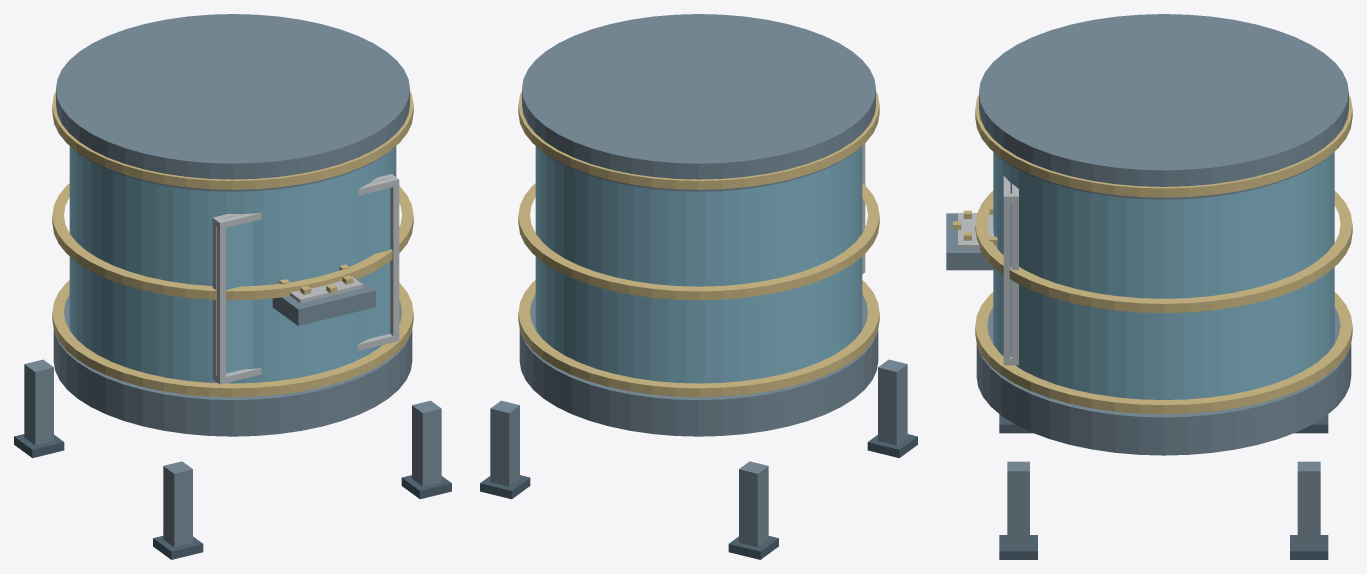
File: 41_L78_UVThermalCureReactor.glb
3 renders of one model, left to right at view 1: azimuth 30°, elevation 25°; view 2: azimuth 150°, elevation 25°; view 3: azimuth 270°, elevation 25°, orthographic. The views are drawn at different scales.
Visible parts, largest first — view 1: UVThermalCureReactor_Node_0013, UVThermalCureReactor_Node_0009, UVThermalCureReactor_Node_0008, UVThermalCureReactor_Node_0043, UVThermalCureReactor_Node_0010, UVThermalCureReactor_Node_0011, UVThermalCureReactor_Node_0012, UVThermalCureReactor_Node_0000, UVThermalCureReactor_Node_0006, UVThermalCureReactor_Node_0002, UVThermalCureReactor_Node_0046, UVThermalCureReactor_Node_0031 (+8 smaller); view 2: UVThermalCureReactor_Node_0009, UVThermalCureReactor_Node_0013, UVThermalCureReactor_Node_0008, UVThermalCureReactor_Node_0011, UVThermalCureReactor_Node_0010, UVThermalCureReactor_Node_0012, UVThermalCureReactor_Node_0002, UVThermalCureReactor_Node_0004, UVThermalCureReactor_Node_0000, UVThermalCureReactor_Node_0005, UVThermalCureReactor_Node_0001, UVThermalCureReactor_Node_0003; view 3: UVThermalCureReactor_Node_0009, UVThermalCureReactor_Node_0013, UVThermalCureReactor_Node_0008, UVThermalCureReactor_Node_0010, UVThermalCureReactor_Node_0011, UVThermalCureReactor_Node_0012, UVThermalCureReactor_Node_0004, UVThermalCureReactor_Node_0006, UVThermalCureReactor_Node_0033, UVThermalCureReactor_Node_0046, UVThermalCureReactor_Node_0032, UVThermalCureReactor_Node_0047 (+2 smaller).
Part boxes in pixels (x1=…): UVThermalCureReactor_Node_0013: x1=56, y1=14, x2=409, y2=191; UVThermalCureReactor_Node_0009: x1=69, y1=146, x2=396, y2=383; UVThermalCureReactor_Node_0008: x1=53, y1=294, x2=412, y2=436; UVThermalCureReactor_Node_0043: x1=226, y1=188, x2=390, y2=373; UVThermalCureReactor_Node_0010: x1=52, y1=280, x2=413, y2=397; UVThermalCureReactor_Node_0011: x1=52, y1=183, x2=413, y2=300; UVThermalCureReactor_Node_0012: x1=52, y1=91, x2=413, y2=189; UVThermalCureReactor_Node_0000: x1=24, y1=359, x2=53, y2=445; UVThermalCureReactor_Node_0006: x1=412, y1=400, x2=441, y2=486; UVThermalCureReactor_Node_0002: x1=163, y1=461, x2=192, y2=547; UVThermalCureReactor_Node_0046: x1=272, y1=278, x2=375, y2=325; UVThermalCureReactor_Node_0031: x1=216, y1=219, x2=225, y2=384; UVThermalCureReactor_Node_0009: x1=535, y1=146, x2=862, y2=383; UVThermalCureReactor_Node_0013: x1=522, y1=14, x2=875, y2=191; UVThermalCureReactor_Node_0008: x1=519, y1=294, x2=878, y2=436; UVThermalCureReactor_Node_0011: x1=518, y1=183, x2=879, y2=300; UVThermalCureReactor_Node_0010: x1=518, y1=280, x2=879, y2=397; UVThermalCureReactor_Node_0012: x1=518, y1=91, x2=879, y2=189; UVThermalCureReactor_Node_0002: x1=878, y1=359, x2=907, y2=445; UVThermalCureReactor_Node_0004: x1=490, y1=400, x2=519, y2=486; UVThermalCureReactor_Node_0000: x1=739, y1=461, x2=768, y2=547; UVThermalCureReactor_Node_0005: x1=480, y1=475, x2=530, y2=499; UVThermalCureReactor_Node_0001: x1=728, y1=536, x2=778, y2=559; UVThermalCureReactor_Node_0003: x1=867, y1=434, x2=917, y2=457; UVThermalCureReactor_Node_0009: x1=993, y1=152, x2=1334, y2=399; UVThermalCureReactor_Node_0013: x1=979, y1=14, x2=1348, y2=199; UVThermalCureReactor_Node_0008: x1=976, y1=307, x2=1351, y2=455; UVThermalCureReactor_Node_0010: x1=975, y1=292, x2=1352, y2=414; UVThermalCureReactor_Node_0011: x1=975, y1=191, x2=1352, y2=312; UVThermalCureReactor_Node_0012: x1=975, y1=94, x2=1352, y2=197; UVThermalCureReactor_Node_0004: x1=1297, y1=461, x2=1320, y2=547; UVThermalCureReactor_Node_0006: x1=1007, y1=461, x2=1029, y2=547; UVThermalCureReactor_Node_0033: x1=1003, y1=194, x2=1010, y2=365; UVThermalCureReactor_Node_0046: x1=946, y1=213, x2=996, y2=270; UVThermalCureReactor_Node_0032: x1=1012, y1=194, x2=1018, y2=365; UVThermalCureReactor_Node_0047: x1=958, y1=213, x2=997, y2=248.
Size of the model in its own units: 3.14 by 3.64 by 3.38.
